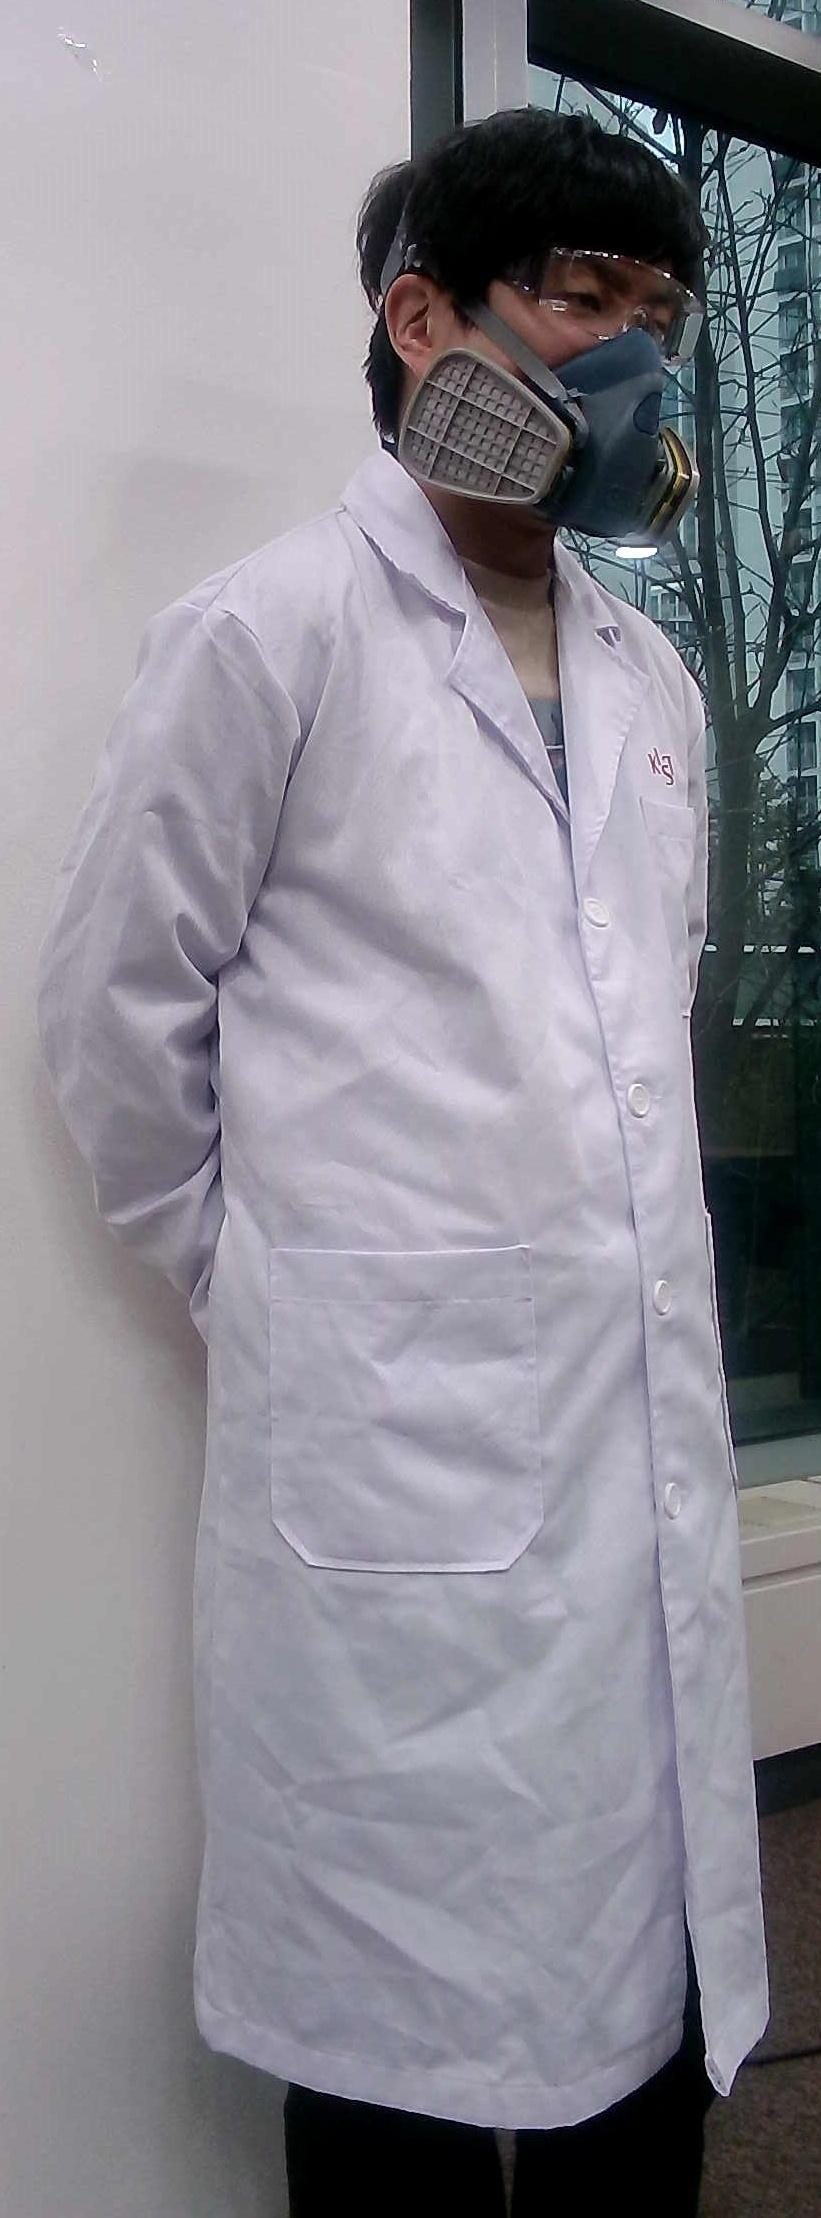lab_coat: (21, 546, 804, 2086)
